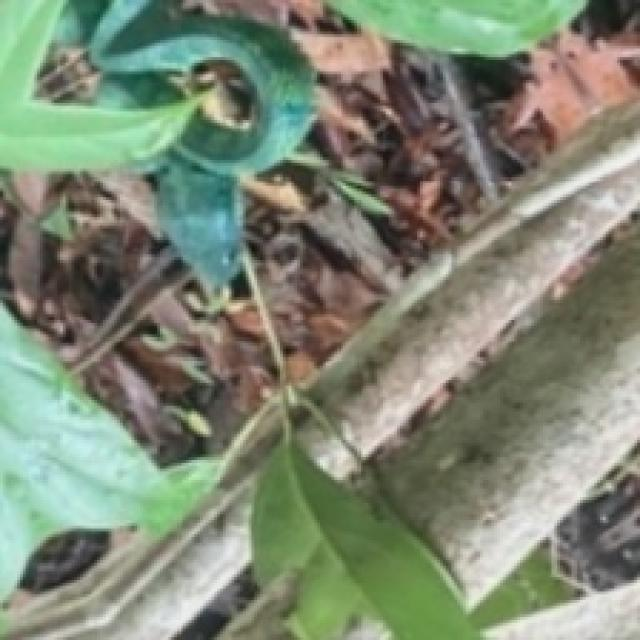north ph temple pitviper: (62, 0, 314, 289)
